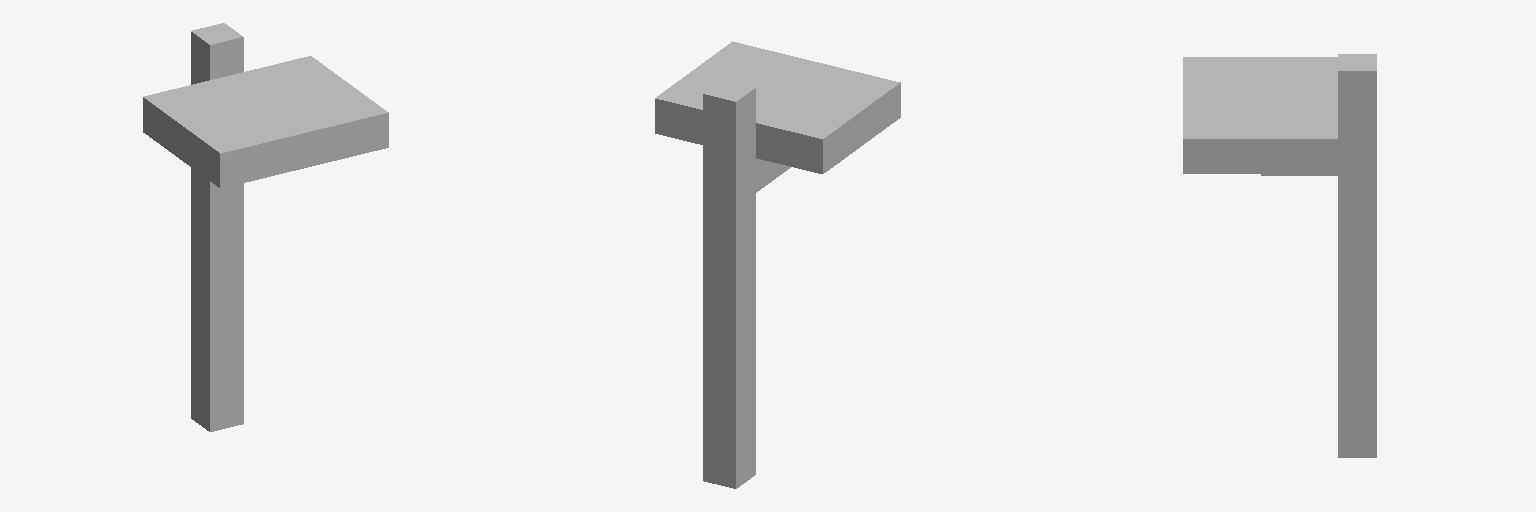
File: Ferramenta - Enxada.obj
3 renders of one model, left to right at view 1: azimuth 30°, elevation 25°; view 2: azimuth 150°, elevation 25°; view 3: azimuth 270°, elevation 25°, orthographic.
Visible parts, largest first — view 1: object 1; view 2: object 1; view 3: object 1.
Boxes of the visible parts, box(x1,y1,x2,y2) form: object 1: box(143, 23, 388, 431); object 1: box(655, 41, 900, 488); object 1: box(1183, 54, 1376, 457).
Size of the model in its own units: 0.5 by 1.1 by 0.5.